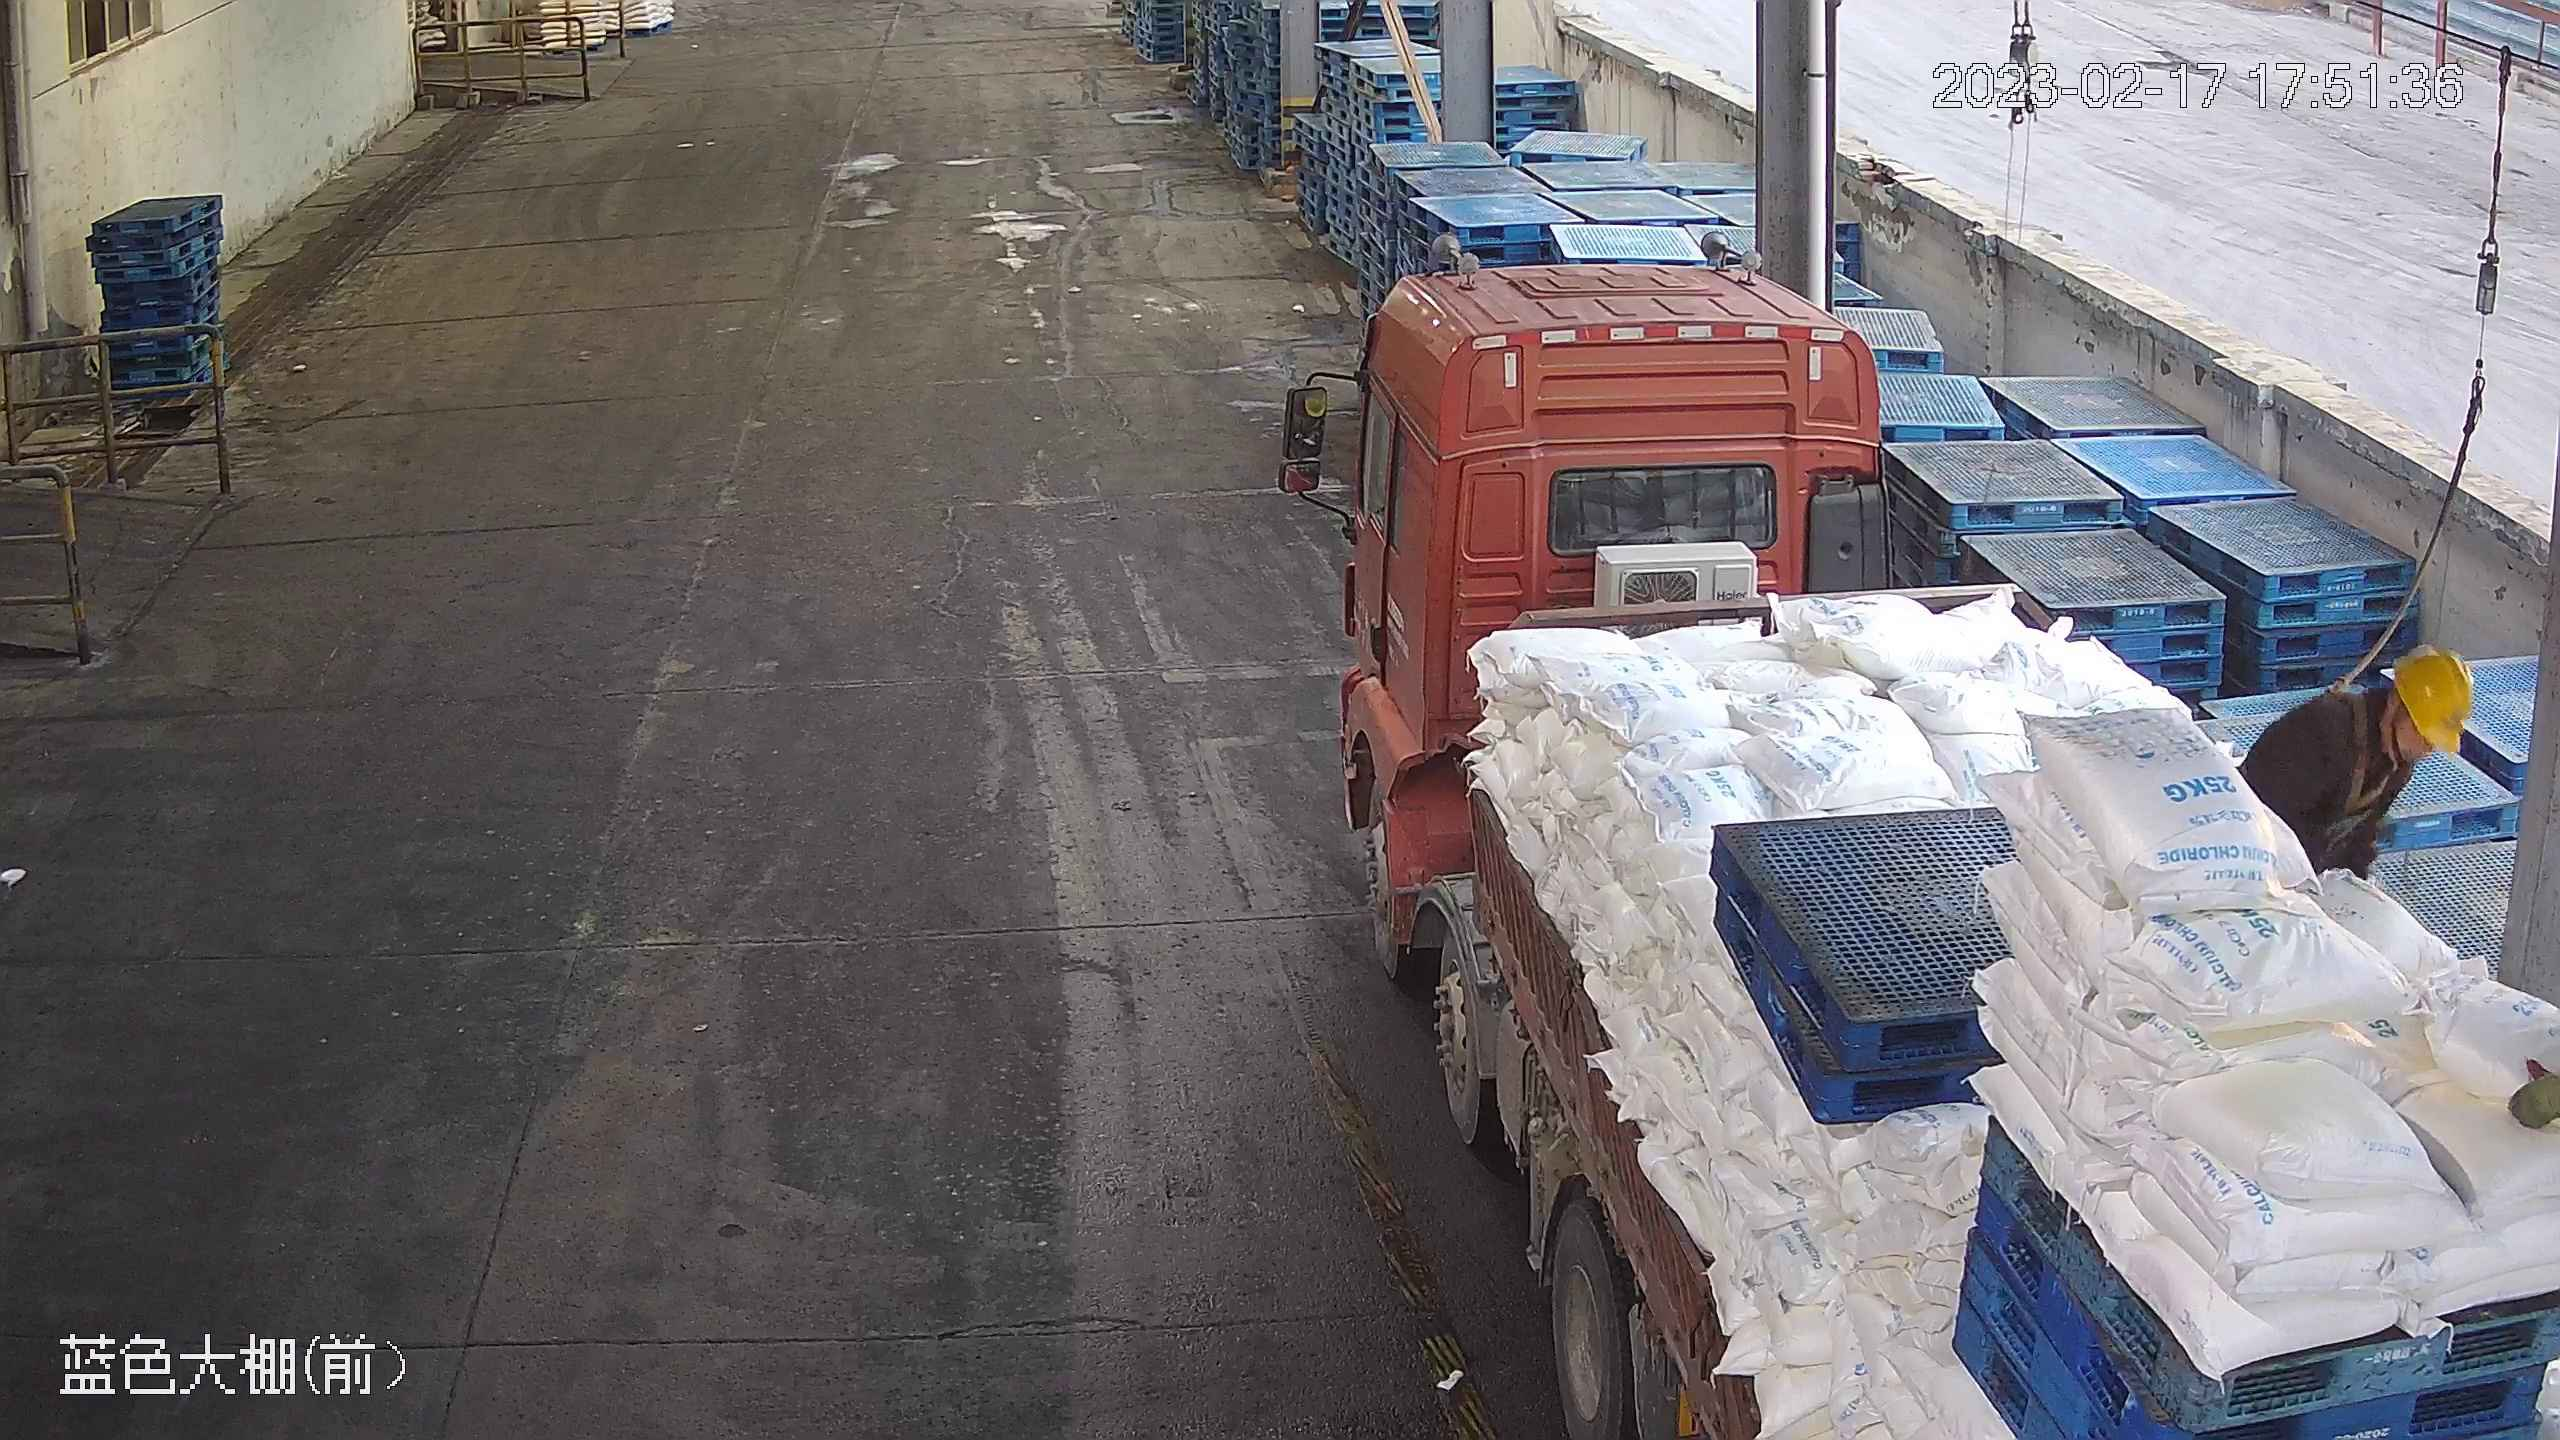belt: (2309, 687, 2406, 825)
head: (2307, 645, 2474, 788)
helmet: (2391, 645, 2473, 753)
people: (2240, 649, 2472, 889)
truck: (1281, 227, 2560, 1440)
